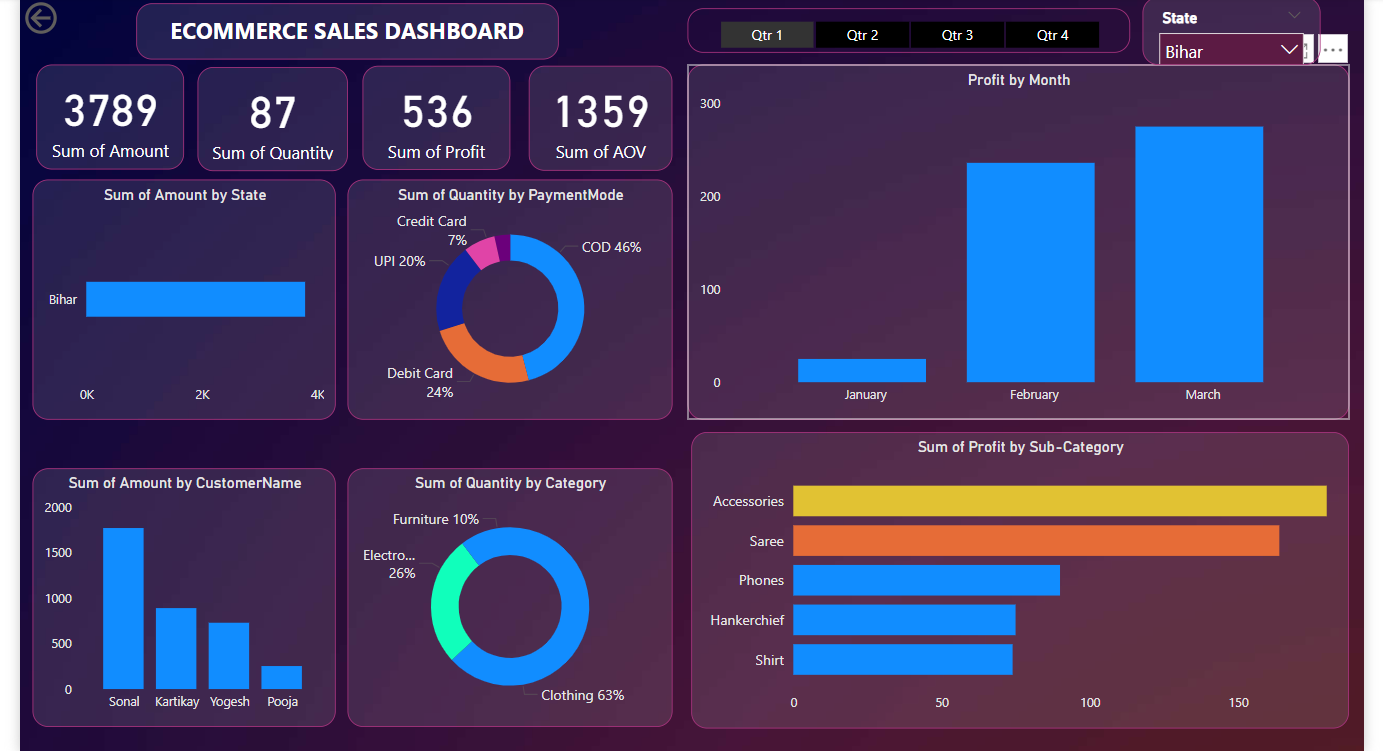

Layout of this report page (visuals, bound fields, positions):
{"tool":"powerbi","page":{"name":"Page 1","canvas":[1280,720],"ordinal":0},"visuals":[{"type":"textbox","box":[110.3,5.4,402.1,53.8],"z":0},{"type":"columnChart","title":"Profit by Month","fields":{"Category":["Orders.Order Date.Variation.Date Hierarchy.Month"],"Y":["Details.Profit"]},"box":[635.6,64.4,630.1,338.4],"z":1000},{"type":"barChart","fields":{"Category":["Details.Sub-Category"],"Y":["Details.Profit"]},"box":[639.7,413.7,626,282.2],"z":2000},{"type":"donutChart","fields":{"Category":["Details.Category"],"Y":["Details.Quantity"]},"box":[312,449.2,309.3,246.1],"z":3000},{"type":"donutChart","fields":{"Y":["Details.Quantity"],"Category":["Details.PaymentMode"]},"box":[312.3,174,309.6,228.8],"z":4000},{"type":"card","fields":{"Values":["Details.Amount"]},"box":[15.1,64.4,141.1,100],"z":5000},{"type":"card","fields":{"Values":["Details.Quantity"]},"box":[169,66.7,142.9,98.8],"z":6000},{"type":"card","fields":{"Values":["Details.Profit"]},"box":[326.2,65.5,140.5,98.8],"z":7000},{"type":"card","fields":{"Values":["Details.AOV"]},"box":[484.5,65.5,136.9,100],"z":8000},{"type":"barChart","fields":{"Category":["Orders.State"],"Y":["Details.Amount"]},"box":[12.3,174,289,228.8],"z":9000},{"type":"columnChart","fields":{"Category":["Orders.CustomerName"],"Y":["Details.Amount"]},"box":[12.1,449.2,289.1,246.1],"z":10000},{"type":"slicer","fields":{"Values":["Orders.Order Date.Variation.Date Hierarchy.Quarter"]},"box":[635.6,11,421.9,42.5],"z":11000},{"type":"actionButton","box":[0,0,100,40],"z":12000},{"type":"slicer","fields":{"Values":["Orders.State"]},"box":[1069.1,0,169.4,64.6],"z":13000}]}

Visuals, with their boxes in screenshot pixels (x1, y1, x2, y2):
textbox: x1=121, y1=0, x2=551, y2=27
"Profit by Month" columnChart: x1=683, y1=33, x2=1356, y2=395
barChart - Details.Sub-Category x Details.Profit: x1=687, y1=406, x2=1356, y2=708
donutChart - Details.Category x Details.Quantity: x1=337, y1=444, x2=668, y2=707
donutChart - Details.Quantity x Details.PaymentMode: x1=337, y1=150, x2=668, y2=395
card - Details.Amount: x1=20, y1=33, x2=171, y2=140
card - Details.Quantity: x1=184, y1=35, x2=337, y2=141
card - Details.Profit: x1=352, y1=34, x2=502, y2=140
card - Details.AOV: x1=521, y1=34, x2=668, y2=141
barChart - Orders.State x Details.Amount: x1=17, y1=150, x2=326, y2=395
columnChart - Orders.CustomerName x Details.Amount: x1=17, y1=444, x2=326, y2=707
slicer - Orders.Order Date.Variation.Date Hierarchy.Quarter: x1=683, y1=0, x2=1134, y2=21
actionButton: x1=4, y1=0, x2=110, y2=7
slicer - Orders.State: x1=1146, y1=0, x2=1327, y2=33
